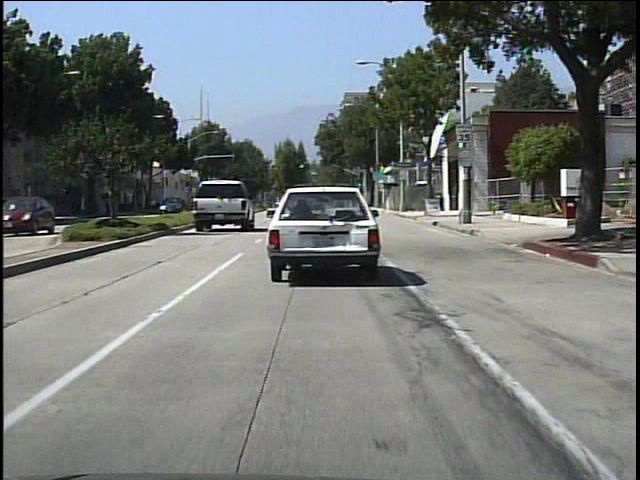person: (104, 194, 117, 220), (150, 196, 159, 216)
